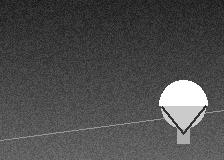helmet: (159, 80, 207, 133)
